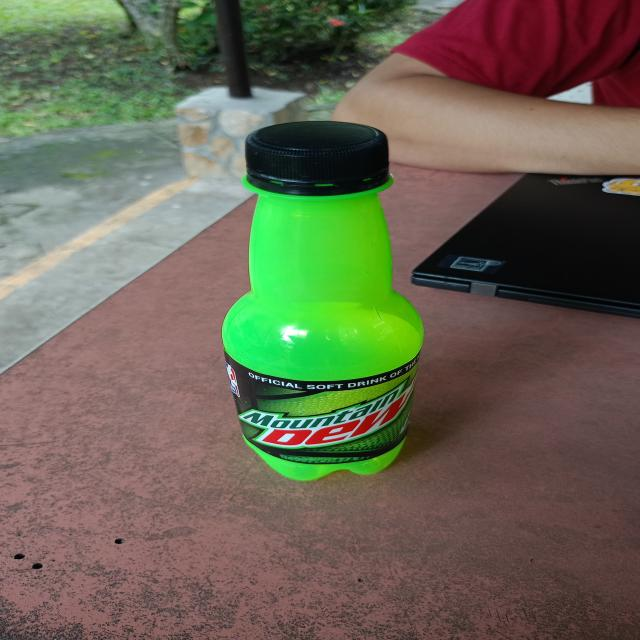Anorganik: (213, 116, 432, 486)
